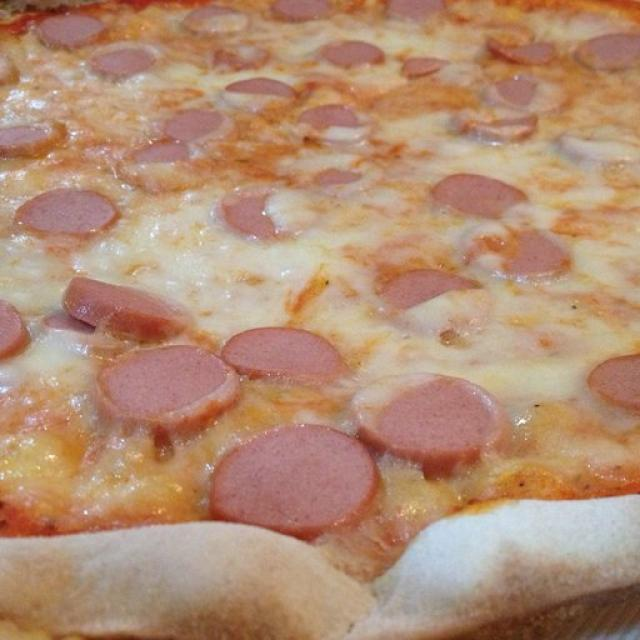Pizza: (0, 0, 640, 640), (210, 429, 375, 533)
